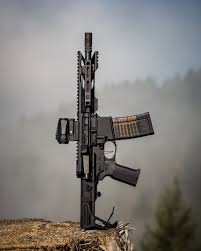gun: (54, 29, 154, 229)
